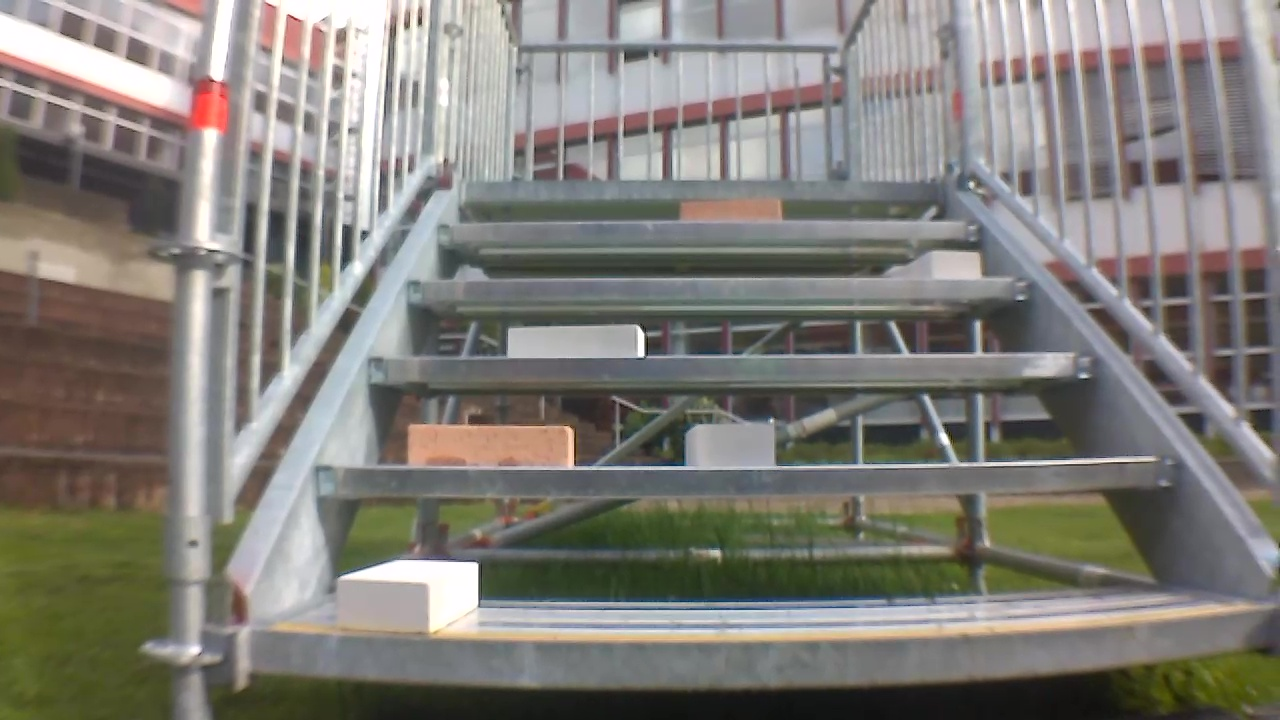brick: (331, 560, 486, 635), (407, 422, 584, 472), (507, 322, 646, 359), (691, 425, 777, 469), (886, 251, 982, 281), (677, 199, 782, 223)
edge: (242, 608, 1279, 680), (308, 456, 1184, 496), (365, 354, 1099, 381), (404, 277, 1036, 307), (438, 221, 982, 246), (458, 179, 952, 202)
stairs: (178, 0, 1280, 709)
steps: (236, 177, 1280, 691)
